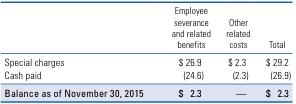table: (3, 4, 289, 98)
table column: (3, 4, 156, 98), (156, 4, 217, 98), (217, 4, 257, 98), (257, 4, 289, 98)
table column header: (3, 4, 289, 52)
table row: (3, 4, 289, 52), (3, 52, 289, 68), (3, 68, 289, 83), (3, 83, 289, 98)
